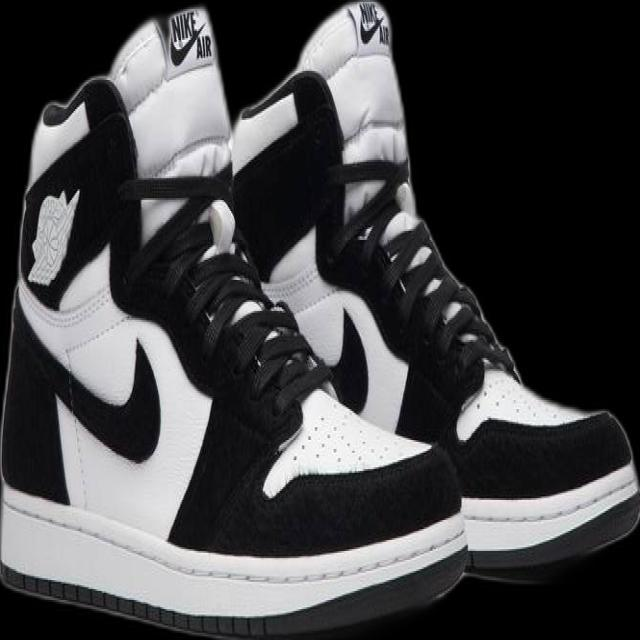J1_MateComp: (0, 4, 470, 637), (228, 0, 639, 581)
J1_ShoeLogo: (25, 187, 81, 288), (165, 7, 214, 67), (355, 0, 391, 46)
J1_StitchPattern: (294, 69, 521, 385), (120, 168, 332, 421), (182, 265, 406, 492), (5, 524, 470, 630), (178, 249, 330, 419), (373, 218, 520, 383), (3, 565, 266, 636), (177, 528, 470, 586), (220, 299, 330, 416), (179, 250, 275, 359), (376, 225, 464, 332), (325, 154, 415, 253), (431, 297, 520, 382), (244, 323, 317, 396), (289, 412, 377, 469), (381, 228, 441, 299)
